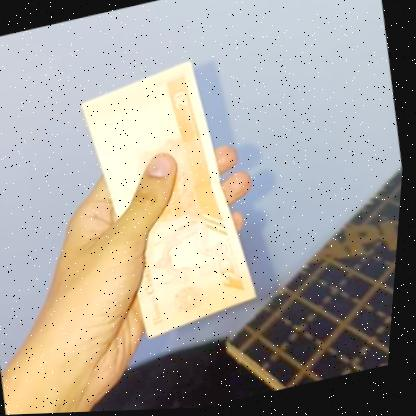twenty-back-vef: (66, 53, 278, 348)
